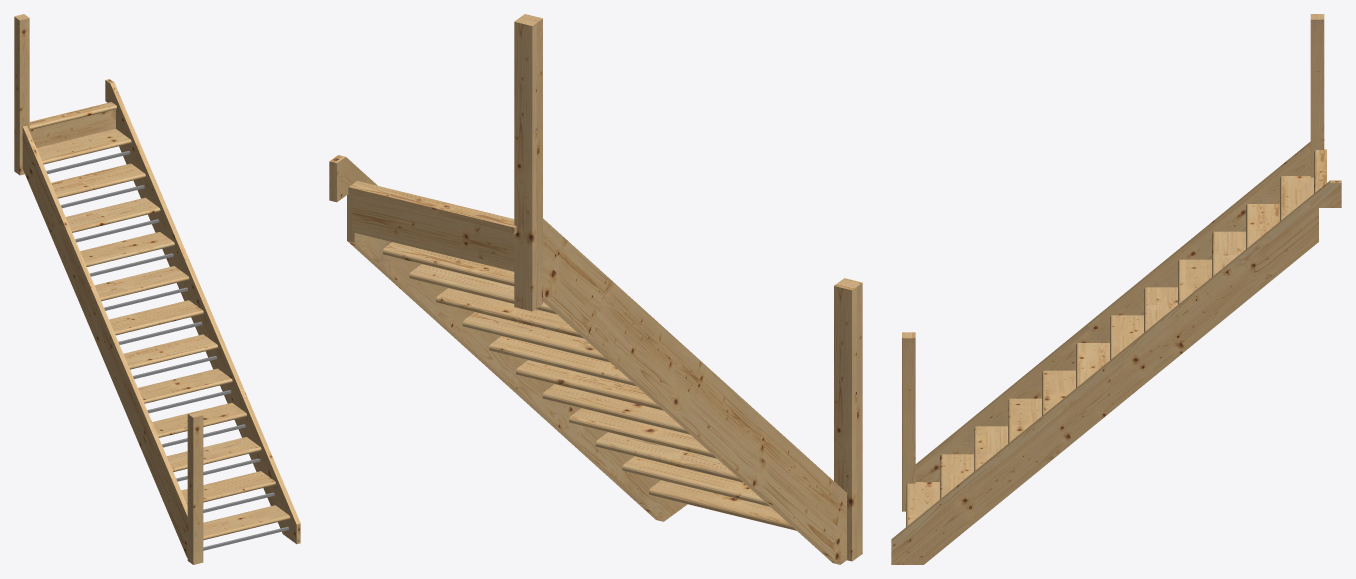
File: Staircase_6.dae
3 renders of one model, left to right at view 1: azimuth 30°, elevation 25°; view 2: azimuth 150°, elevation 25°; view 3: azimuth 270°, elevation 25°, orthographic. The views are drawn at different scales.
Visible parts, largest first — view 1: StairCon (×18); view 2: StairCon (×17); view 3: StairCon (×16).
Boxes of the visible parts, x1,y1,x2,y2 form: StairCon (×18): (14, 14, 300, 564); StairCon (×17): (329, 14, 862, 564); StairCon (×16): (891, 14, 1341, 564).
Bounding box in the file's own units: 0.926 × 2.98 × 3.59.
5 materials, 4 textured.
